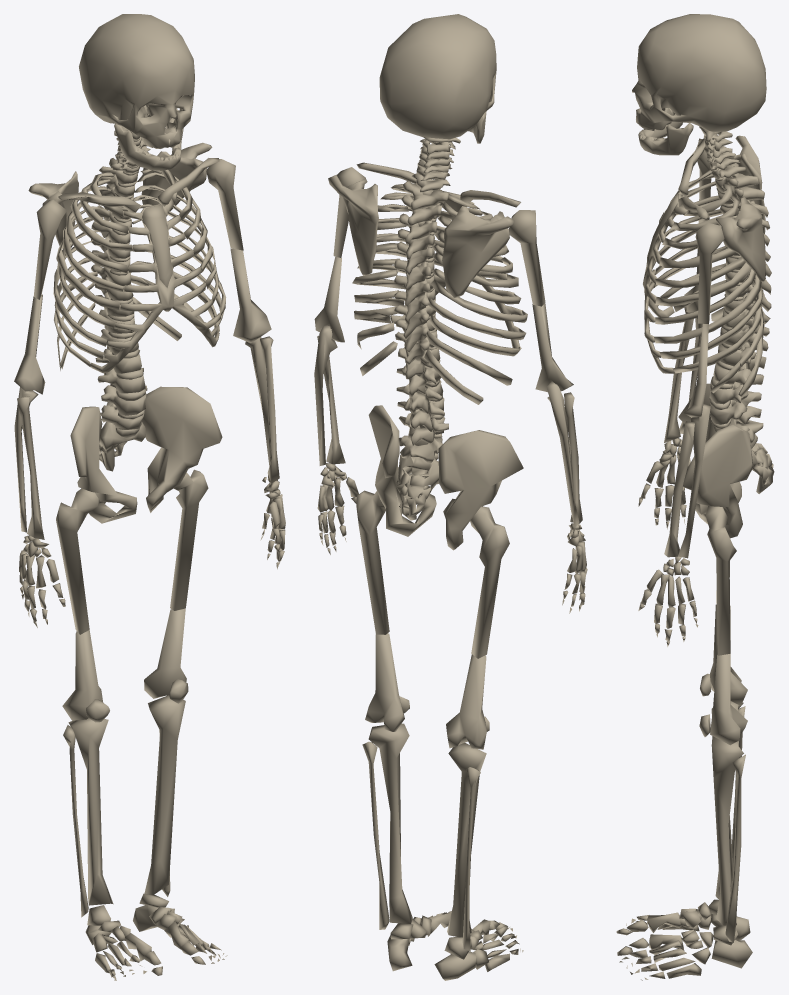
File: pediatric_child_10y_male.skeletal.LOD3.glb
The picture shows the model from 3 angles, left to right: view 1: azimuth 30°, elevation 25°; view 2: azimuth 150°, elevation 25°; view 3: azimuth 270°, elevation 25°; orthographic projection.
Visible parts, largest first — view 1: PEDIATRIC.CHILD_10Y.MALE.SKELETAL.CRANIUM_CORTICAL, PEDIATRIC.CHILD_10Y.MALE.SKELETAL.RIBS_CORTICAL, PEDIATRIC.CHILD_10Y.MALE.SKELETAL.PELVIS_CORTICAL, PEDIATRIC.CHILD_10Y.MALE.SKELETAL.TIBIAE_CORTICAL, PEDIATRIC.CHILD_10Y.MALE.SKELETAL.CARTILAGE_TRUNK, PEDIATRIC.CHILD_10Y.MALE.SKELETAL.FEMORA_UPPER_CORTICAL, PEDIATRIC.CHILD_10Y.MALE.SKELETAL.ANKLES_AND_FOOT_CORTICAL, PEDIATRIC.CHILD_10Y.MALE.SKELETAL.FEMORA_LOWER_CORTICAL, PEDIATRIC.CHILD_10Y.MALE.SKELETAL.WRISTS_AND_HAND_BONES_CORT, PEDIATRIC.CHILD_10Y.MALE.SKELETAL.THORACIC_SPINE_CORTICAL, PEDIATRIC.CHILD_10Y.MALE.SKELETAL.HUMERI_LOWER_CORTICAL, PEDIATRIC.CHILD_10Y.MALE.SKELETAL.HUMERI_UPPER_CORTICAL (+10 smaller); view 2: PEDIATRIC.CHILD_10Y.MALE.SKELETAL.CRANIUM_CORTICAL, PEDIATRIC.CHILD_10Y.MALE.SKELETAL.RIBS_CORTICAL, PEDIATRIC.CHILD_10Y.MALE.SKELETAL.PELVIS_CORTICAL, PEDIATRIC.CHILD_10Y.MALE.SKELETAL.SCAPULAE_CORTICAL, PEDIATRIC.CHILD_10Y.MALE.SKELETAL.TIBIAE_CORTICAL, PEDIATRIC.CHILD_10Y.MALE.SKELETAL.THORACIC_SPINE_CORTICAL, PEDIATRIC.CHILD_10Y.MALE.SKELETAL.FEMORA_UPPER_CORTICAL, PEDIATRIC.CHILD_10Y.MALE.SKELETAL.FEMORA_LOWER_CORTICAL, PEDIATRIC.CHILD_10Y.MALE.SKELETAL.ANKLES_AND_FOOT_CORTICAL, PEDIATRIC.CHILD_10Y.MALE.SKELETAL.LUMBAR_SPINE_CORTICAL, PEDIATRIC.CHILD_10Y.MALE.SKELETAL.WRISTS_AND_HAND_BONES_CORT, PEDIATRIC.CHILD_10Y.MALE.SKELETAL.HUMERI_UPPER_CORTICAL (+8 smaller); view 3: PEDIATRIC.CHILD_10Y.MALE.SKELETAL.CRANIUM_CORTICAL, PEDIATRIC.CHILD_10Y.MALE.SKELETAL.RIBS_CORTICAL, PEDIATRIC.CHILD_10Y.MALE.SKELETAL.ANKLES_AND_FOOT_CORTICAL, PEDIATRIC.CHILD_10Y.MALE.SKELETAL.PELVIS_CORTICAL, PEDIATRIC.CHILD_10Y.MALE.SKELETAL.WRISTS_AND_HAND_BONES_CORT, PEDIATRIC.CHILD_10Y.MALE.SKELETAL.TIBIAE_CORTICAL, PEDIATRIC.CHILD_10Y.MALE.SKELETAL.SCAPULAE_CORTICAL, PEDIATRIC.CHILD_10Y.MALE.SKELETAL.THORACIC_SPINE_CORTICAL, PEDIATRIC.CHILD_10Y.MALE.SKELETAL.LUMBAR_SPINE_CORTICAL, PEDIATRIC.CHILD_10Y.MALE.SKELETAL.FEMORA_LOWER_CORTICAL, PEDIATRIC.CHILD_10Y.MALE.SKELETAL.CARTILAGE_TRUNK, PEDIATRIC.CHILD_10Y.MALE.SKELETAL.RADII_CORTICAL (+11 smaller).
Part boxes in pixels (x1,y1,x2,y2): PEDIATRIC.CHILD_10Y.MALE.SKELETAL.CRANIUM_CORTICAL: (79, 14, 194, 148); PEDIATRIC.CHILD_10Y.MALE.SKELETAL.RIBS_CORTICAL: (53, 169, 226, 370); PEDIATRIC.CHILD_10Y.MALE.SKELETAL.PELVIS_CORTICAL: (70, 386, 222, 523); PEDIATRIC.CHILD_10Y.MALE.SKELETAL.TIBIAE_CORTICAL: (68, 695, 185, 905); PEDIATRIC.CHILD_10Y.MALE.SKELETAL.CARTILAGE_TRUNK: (90, 138, 220, 437); PEDIATRIC.CHILD_10Y.MALE.SKELETAL.FEMORA_UPPER_CORTICAL: (56, 469, 208, 634); PEDIATRIC.CHILD_10Y.MALE.SKELETAL.ANKLES_AND_FOOT_CORTICAL: (85, 893, 227, 980); PEDIATRIC.CHILD_10Y.MALE.SKELETAL.FEMORA_LOWER_CORTICAL: (62, 608, 186, 720); PEDIATRIC.CHILD_10Y.MALE.SKELETAL.WRISTS_AND_HAND_BONES_CORT: (19, 475, 285, 627); PEDIATRIC.CHILD_10Y.MALE.SKELETAL.THORACIC_SPINE_CORTICAL: (91, 158, 138, 333); PEDIATRIC.CHILD_10Y.MALE.SKELETAL.HUMERI_LOWER_CORTICAL: (14, 248, 271, 394); PEDIATRIC.CHILD_10Y.MALE.SKELETAL.HUMERI_UPPER_CORTICAL: (33, 159, 243, 299); PEDIATRIC.CHILD_10Y.MALE.SKELETAL.CRANIUM_CORTICAL: (379, 14, 496, 139); PEDIATRIC.CHILD_10Y.MALE.SKELETAL.RIBS_CORTICAL: (352, 184, 527, 404); PEDIATRIC.CHILD_10Y.MALE.SKELETAL.PELVIS_CORTICAL: (368, 405, 523, 550); PEDIATRIC.CHILD_10Y.MALE.SKELETAL.SCAPULAE_CORTICAL: (328, 174, 514, 297); PEDIATRIC.CHILD_10Y.MALE.SKELETAL.TIBIAE_CORTICAL: (368, 723, 486, 937); PEDIATRIC.CHILD_10Y.MALE.SKELETAL.THORACIC_SPINE_CORTICAL: (393, 181, 449, 379); PEDIATRIC.CHILD_10Y.MALE.SKELETAL.FEMORA_UPPER_CORTICAL: (356, 490, 509, 658); PEDIATRIC.CHILD_10Y.MALE.SKELETAL.FEMORA_LOWER_CORTICAL: (365, 633, 486, 749); PEDIATRIC.CHILD_10Y.MALE.SKELETAL.ANKLES_AND_FOOT_CORTICAL: (387, 911, 523, 980); PEDIATRIC.CHILD_10Y.MALE.SKELETAL.LUMBAR_SPINE_CORTICAL: (396, 365, 448, 462); PEDIATRIC.CHILD_10Y.MALE.SKELETAL.WRISTS_AND_HAND_BONES_CORT: (317, 463, 587, 613); PEDIATRIC.CHILD_10Y.MALE.SKELETAL.HUMERI_UPPER_CORTICAL: (333, 167, 545, 306); PEDIATRIC.CHILD_10Y.MALE.SKELETAL.CRANIUM_CORTICAL: (632, 14, 766, 131); PEDIATRIC.CHILD_10Y.MALE.SKELETAL.RIBS_CORTICAL: (654, 168, 764, 397); PEDIATRIC.CHILD_10Y.MALE.SKELETAL.ANKLES_AND_FOOT_CORTICAL: (616, 899, 752, 980); PEDIATRIC.CHILD_10Y.MALE.SKELETAL.PELVIS_CORTICAL: (678, 383, 753, 538); PEDIATRIC.CHILD_10Y.MALE.SKELETAL.WRISTS_AND_HAND_BONES_CORT: (638, 438, 698, 646); PEDIATRIC.CHILD_10Y.MALE.SKELETAL.TIBIAE_CORTICAL: (711, 701, 743, 925); PEDIATRIC.CHILD_10Y.MALE.SKELETAL.SCAPULAE_CORTICAL: (716, 135, 765, 282); PEDIATRIC.CHILD_10Y.MALE.SKELETAL.THORACIC_SPINE_CORTICAL: (715, 163, 771, 351); PEDIATRIC.CHILD_10Y.MALE.SKELETAL.LUMBAR_SPINE_CORTICAL: (709, 342, 766, 443); PEDIATRIC.CHILD_10Y.MALE.SKELETAL.FEMORA_LOWER_CORTICAL: (710, 604, 747, 745); PEDIATRIC.CHILD_10Y.MALE.SKELETAL.CARTILAGE_TRUNK: (643, 138, 743, 428); PEDIATRIC.CHILD_10Y.MALE.SKELETAL.RADII_CORTICAL: (664, 306, 695, 557).
Bounding box in the file's own units: 0.4004 × 1.38 × 0.2111.
